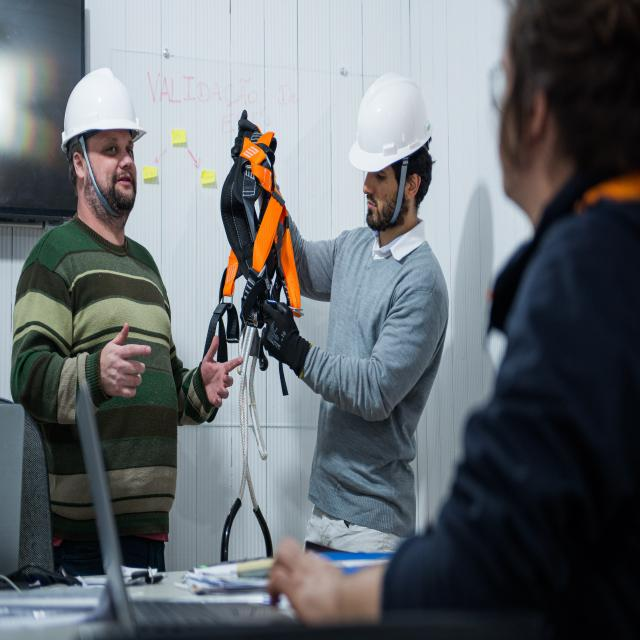capacete: (346, 69, 434, 172), (60, 67, 148, 156)
luva: (260, 295, 312, 381)
